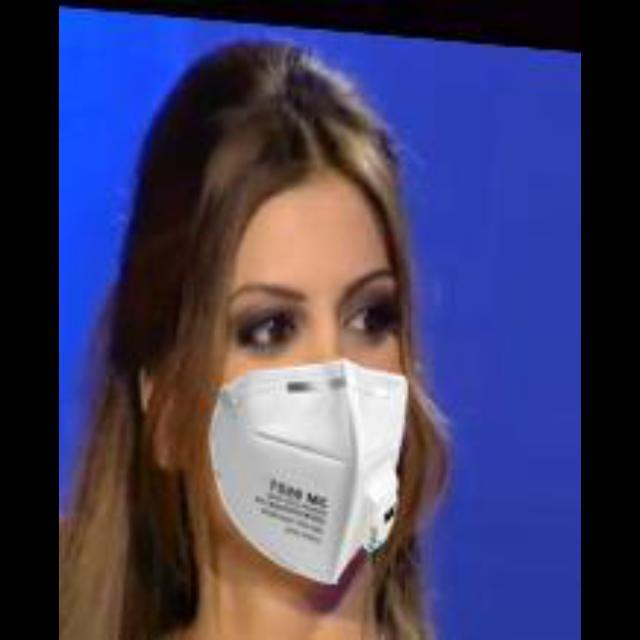suspicion: (149, 79, 433, 583)
